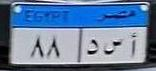8: (48, 37, 60, 58), (30, 37, 42, 58)
alif: (129, 31, 140, 60)
daal: (84, 38, 102, 56)
seen: (103, 38, 124, 57)
